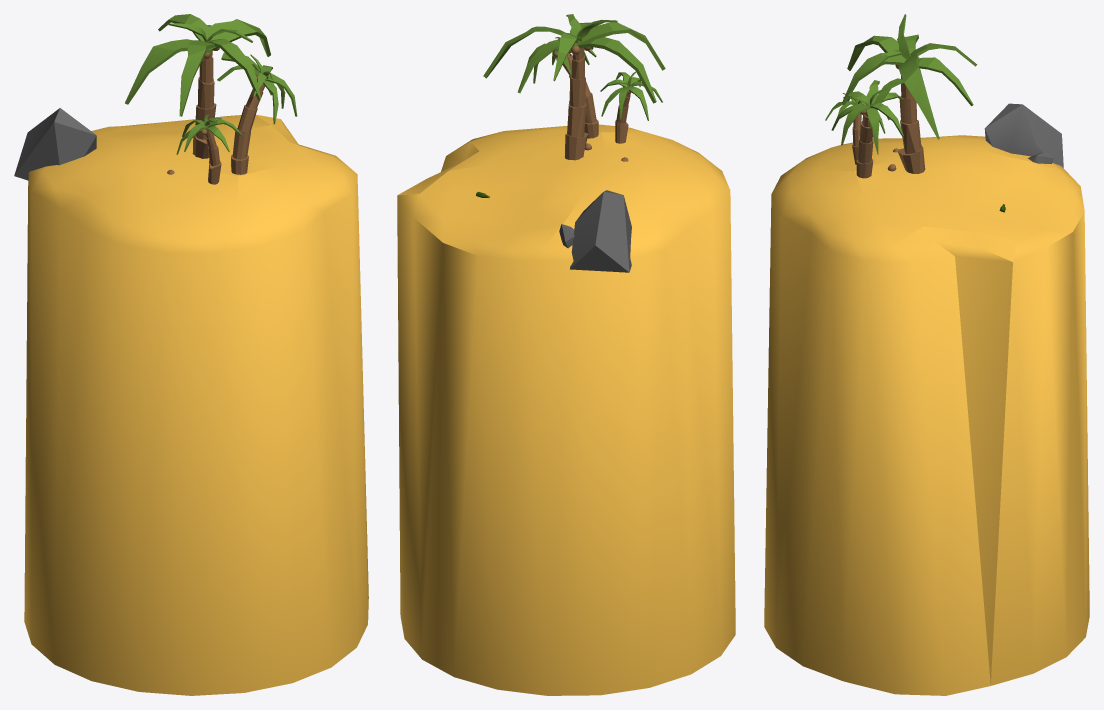
3 views of the same model, side by side, from view 1: azimuth 30°, elevation 25°; view 2: azimuth 150°, elevation 25°; view 3: azimuth 270°, elevation 25° (orthographic). The views are drawn at different scales.
Visible parts, largest first — view 1: Icosphere; view 2: Icosphere; view 3: Icosphere.
Boxes of the visible parts, x1,y1,x2,y2 form: Icosphere: (14, 14, 368, 695); Icosphere: (397, 14, 735, 695); Icosphere: (764, 14, 1089, 695).
Bounding box in the file's own units: 2.39 × 4.59 × 2.3.
